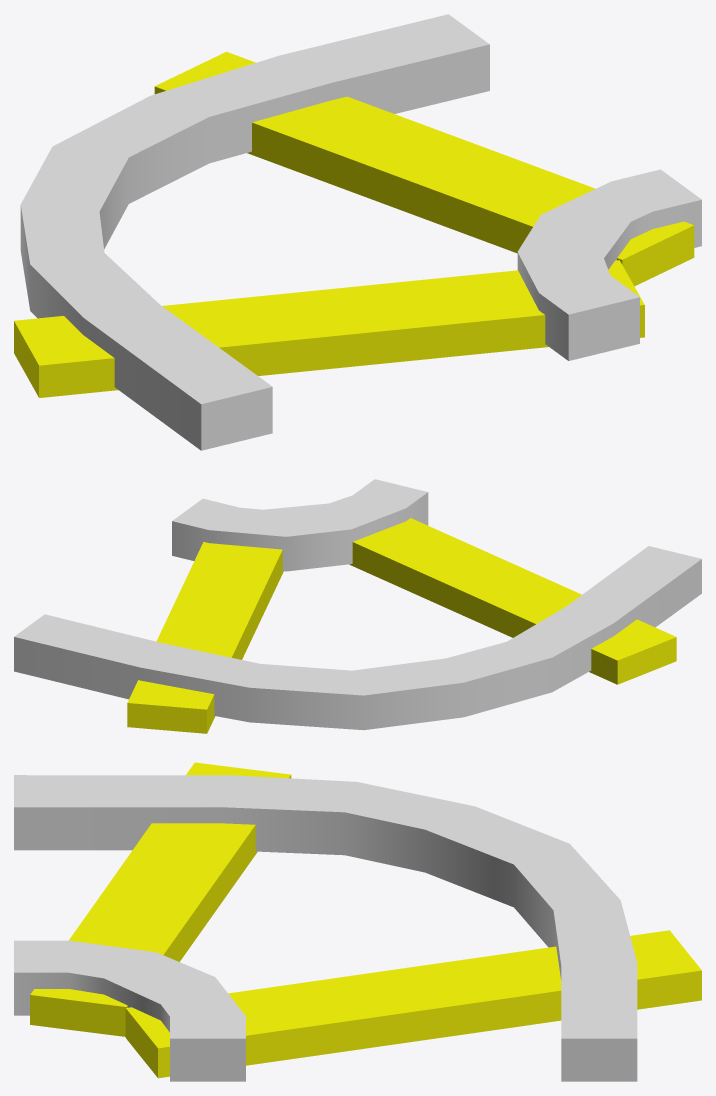
Rendered from Rail_Corner.glb.
The picture shows the model from 3 angles, top to bottom: view 1: azimuth 30°, elevation 25°; view 2: azimuth 150°, elevation 25°; view 3: azimuth 270°, elevation 25°; orthographic projection. The views are drawn at different scales.
Parts seen in each view (by area): view 1: Rail_Corner; view 2: Rail_Corner; view 3: Rail_Corner.
Part boxes in pixels (x1=…): Rail_Corner: x1=14, y1=14, x2=701, y2=450; Rail_Corner: x1=14, y1=479, x2=701, y2=733; Rail_Corner: x1=14, y1=762, x2=701, y2=1081.
Size of the model in its own units: 1.78 by 0.1305 by 1.77.
Materials: 2 (1 with a texture image).
